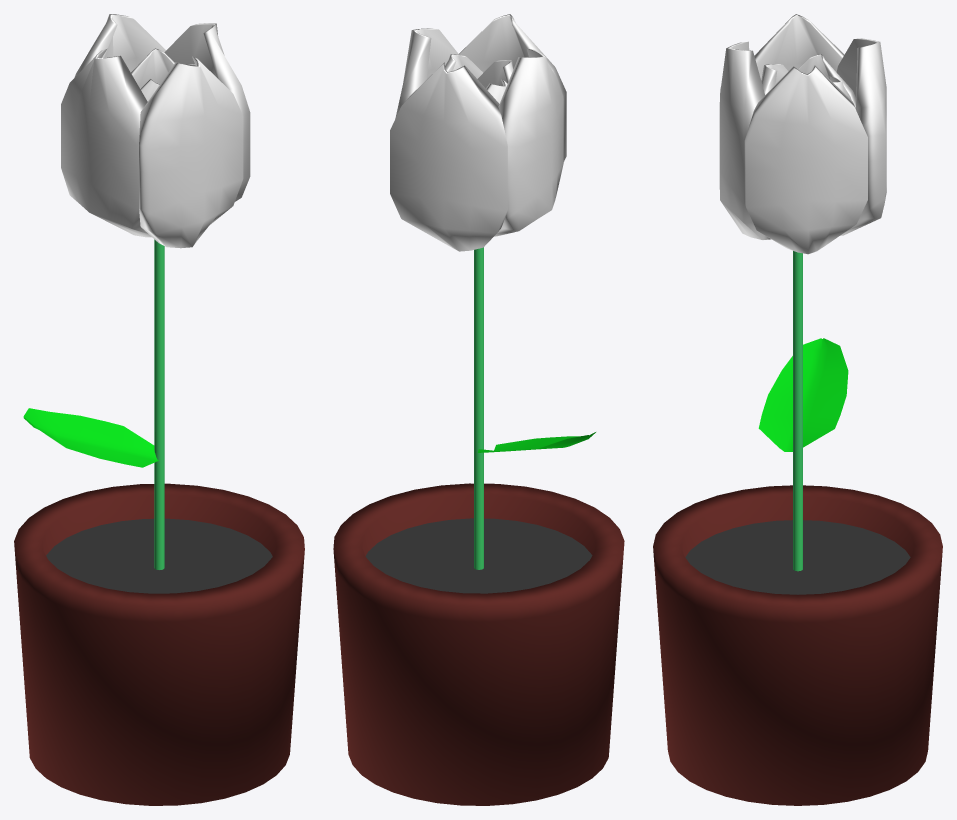
Rendered from tulip.glb.
3 renders of one model, left to right at view 1: azimuth 30°, elevation 25°; view 2: azimuth 150°, elevation 25°; view 3: azimuth 270°, elevation 25°, orthographic.
Parts seen in each view (by area): view 1: Circle, Cube.003, Circle.001, Cube, Plane.001, Vert.001, Cube.001, Cube.002, Cube.005; view 2: Circle, Cube.002, Circle.001, Cube, Vert.001, Cube.003, Cube.001, Plane.001, Cube.004; view 3: Circle, Cube.001, Circle.001, Plane.001, Cube.003, Cube.002, Vert.001, Cube, Cube.006.
Part boxes in pixels (x1,y1,x2,y2): Circle: (14, 483, 304, 805); Cube.003: (139, 56, 243, 248); Circle.001: (46, 518, 272, 593); Cube: (61, 48, 151, 237); Plane.001: (23, 408, 159, 467); Vert.001: (154, 239, 164, 569); Cube.001: (164, 23, 250, 201); Cube.002: (74, 14, 165, 77); Cube.005: (131, 48, 174, 88); Circle: (333, 483, 624, 805); Cube.002: (390, 62, 507, 251); Circle.001: (365, 518, 592, 593); Cube: (494, 48, 563, 236); Vert.001: (474, 247, 483, 569); Cube.003: (459, 14, 566, 161); Cube.001: (395, 28, 458, 118); Plane.001: (477, 432, 595, 452); Cube.004: (477, 60, 513, 88); Circle: (653, 485, 942, 805); Cube.001: (744, 65, 867, 254); Circle.001: (685, 520, 910, 594); Plane.001: (758, 338, 848, 451); Cube.003: (719, 41, 770, 239); Cube.002: (836, 38, 886, 235); Vert.001: (793, 251, 802, 571); Cube: (754, 14, 844, 79); Cube.006: (798, 54, 856, 107).
Size of the model in its own units: 1.62 by 4.34 by 1.62.
